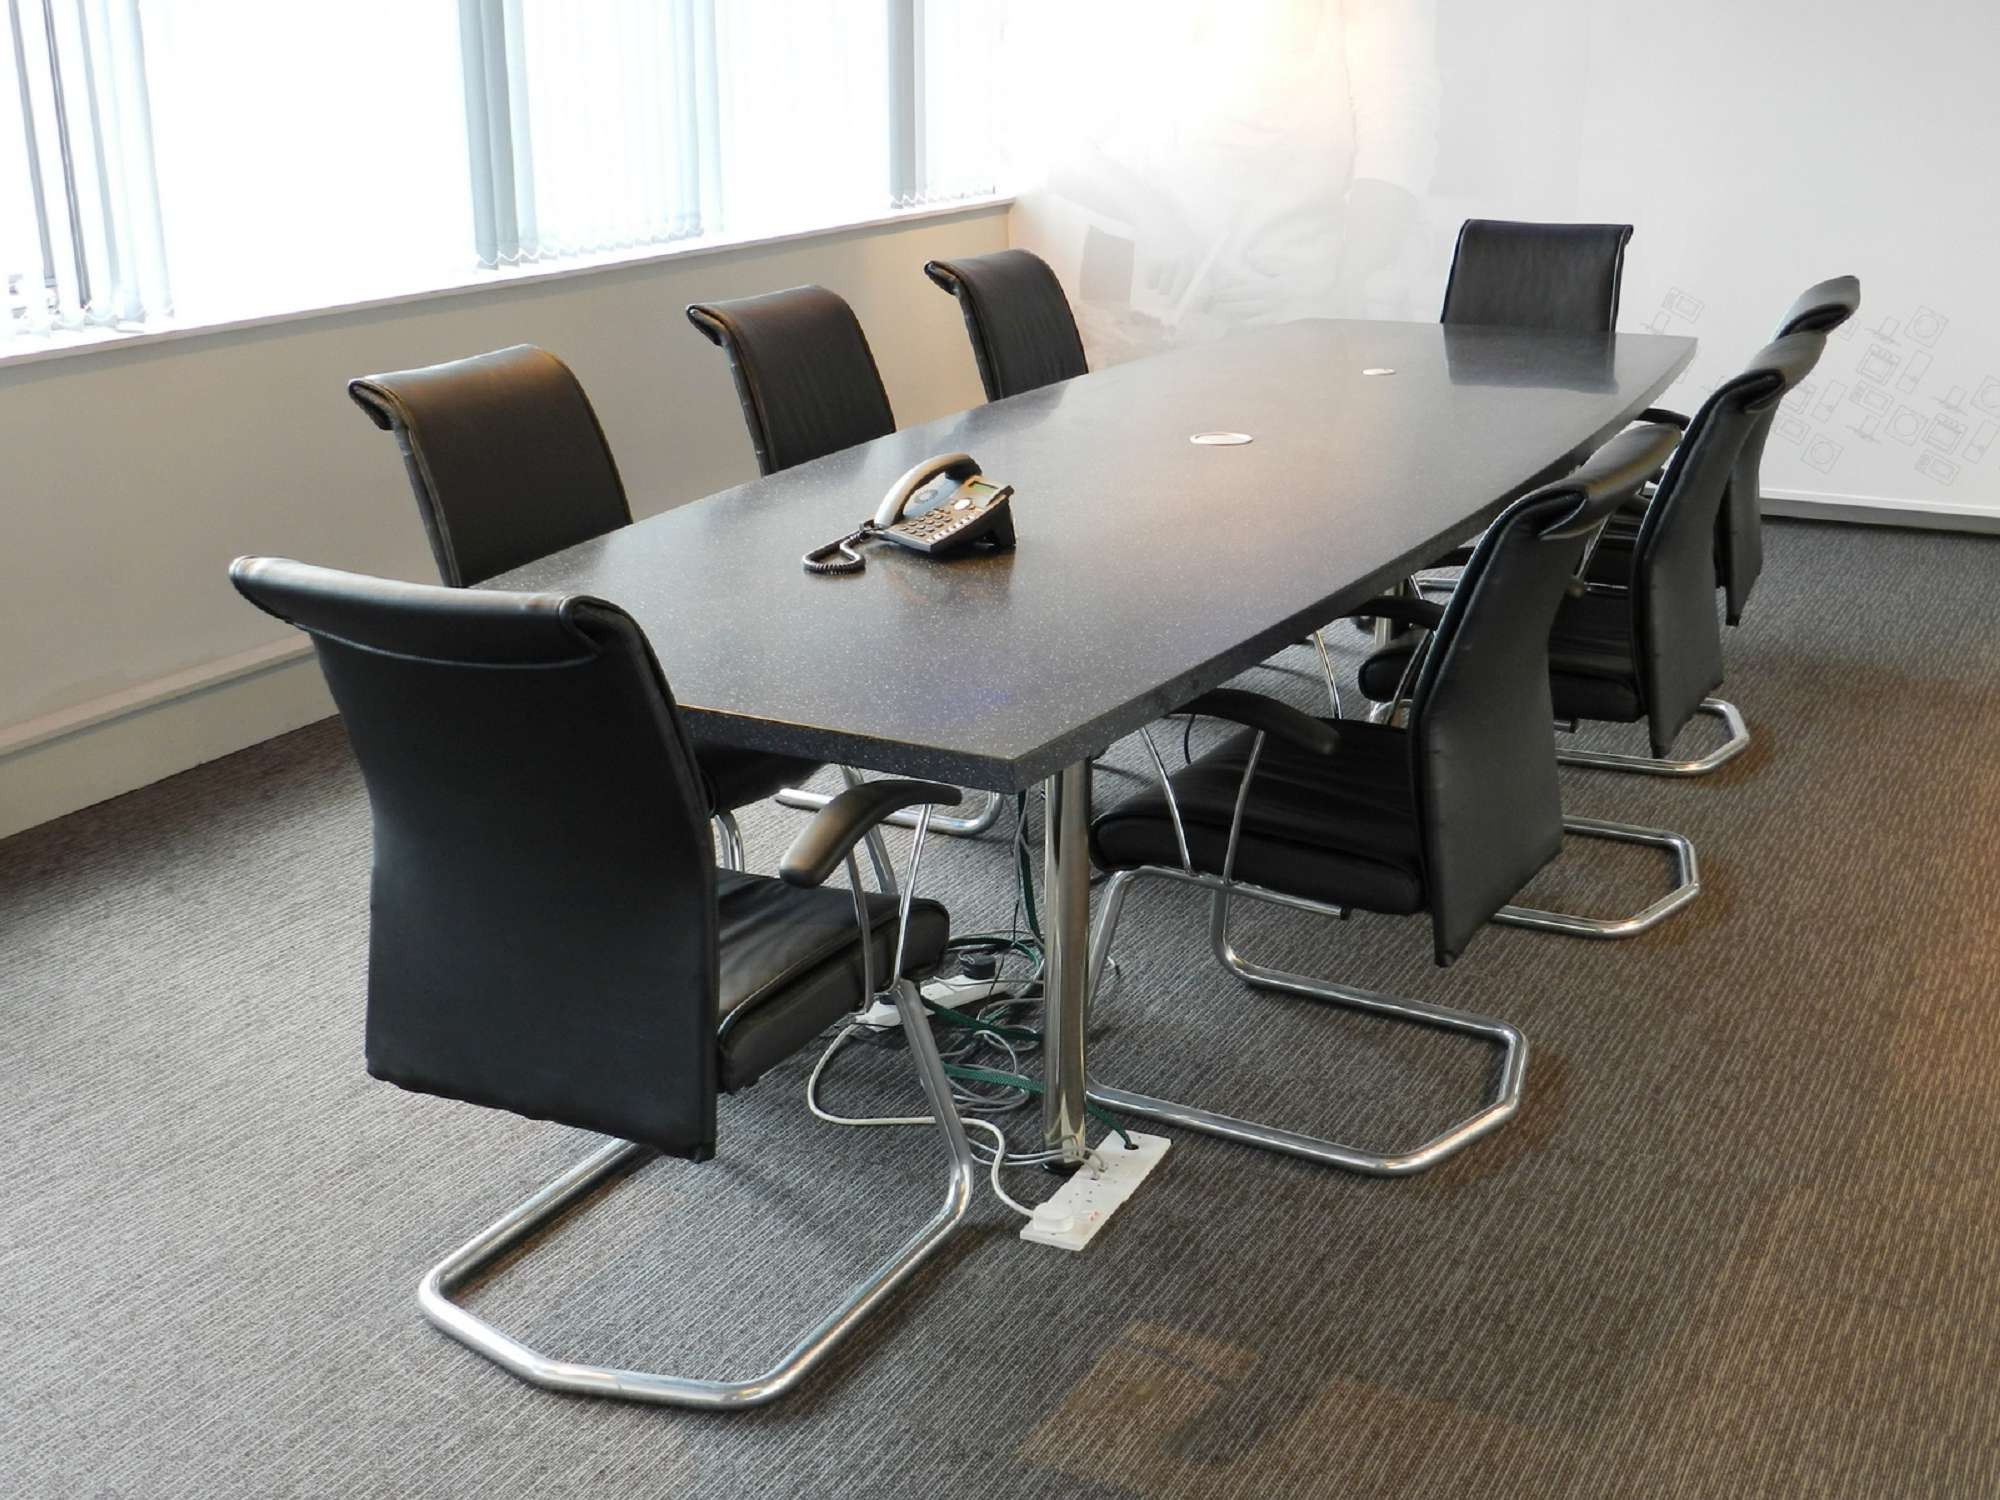conference_table: (475, 307, 1697, 1168)
